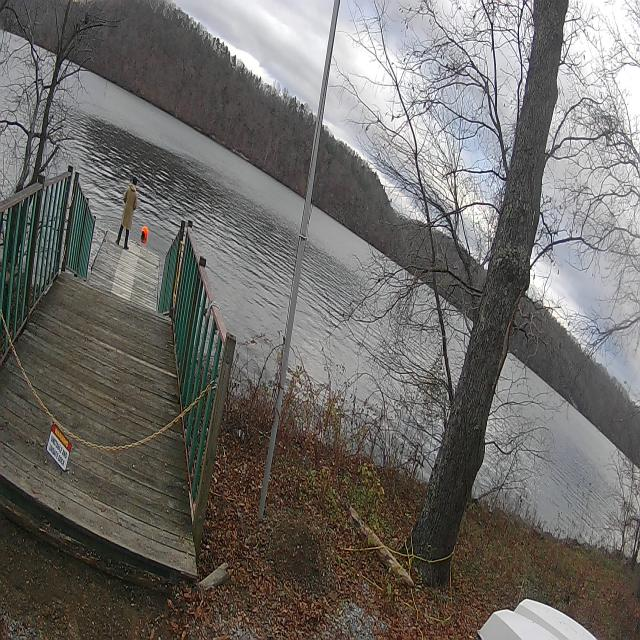Buoy: (139, 225, 149, 242)
